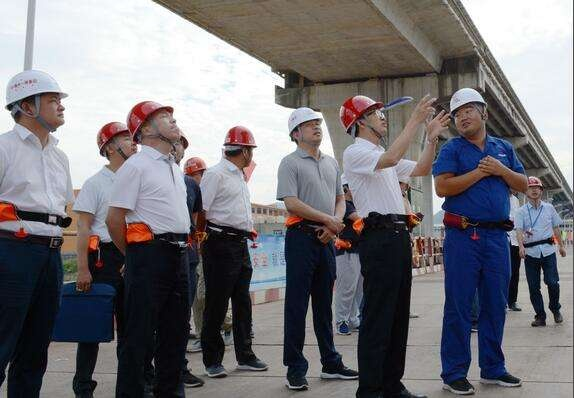red: (127, 98, 181, 149), (339, 92, 392, 142), (95, 120, 137, 161), (222, 123, 257, 169), (180, 153, 208, 181), (522, 173, 543, 202)
white: (3, 68, 67, 138), (447, 87, 489, 139), (285, 105, 326, 149)
